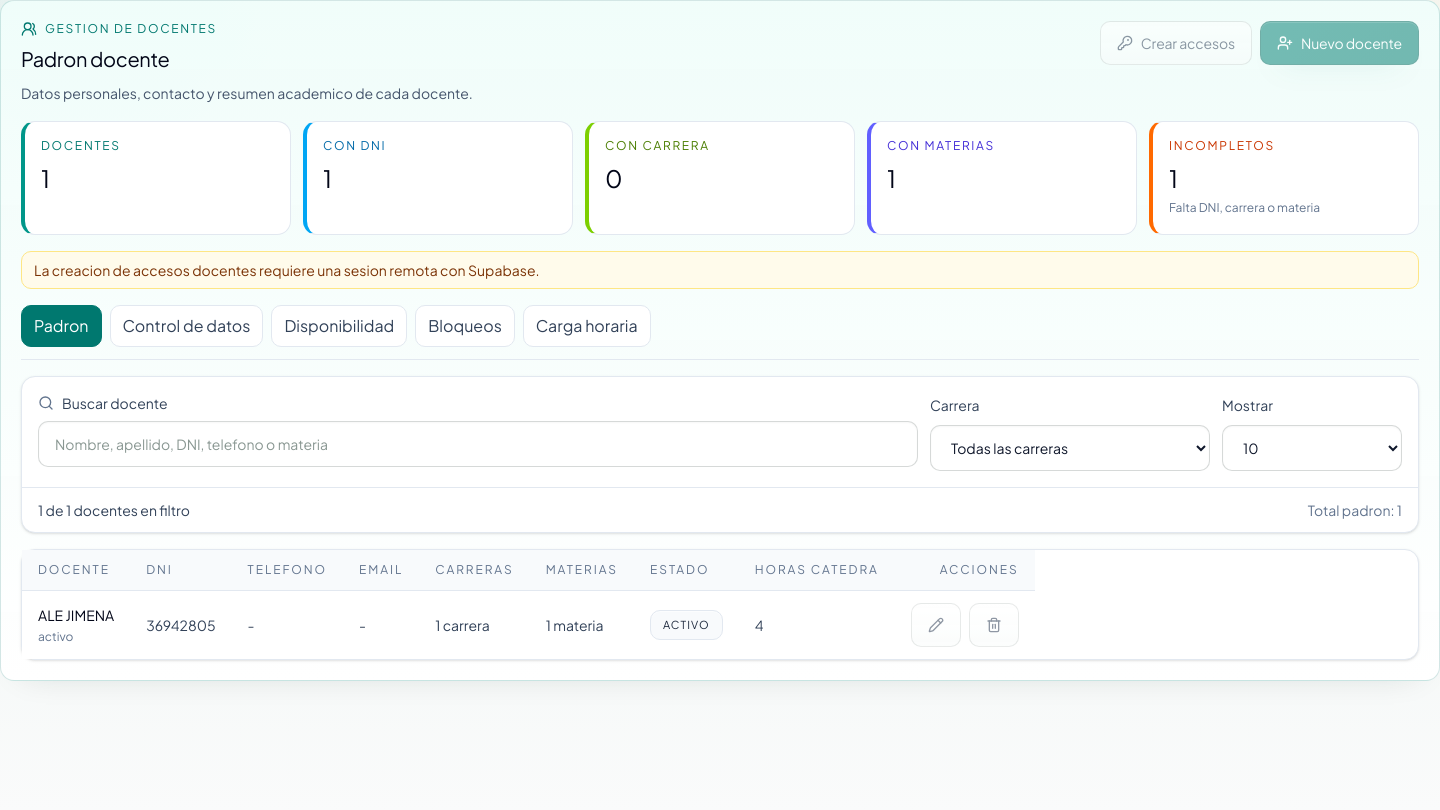
Test: TeacherRosterSection fechas bloqueadas › muestra materias, carreras, condicion y horas catedra en el modal docente
What coordinates should you click on to do the following:
click the text "ALE JIMENA"
I would click on:
 (76, 615)
Its box is x1=38 y1=605 x2=114 y2=625.
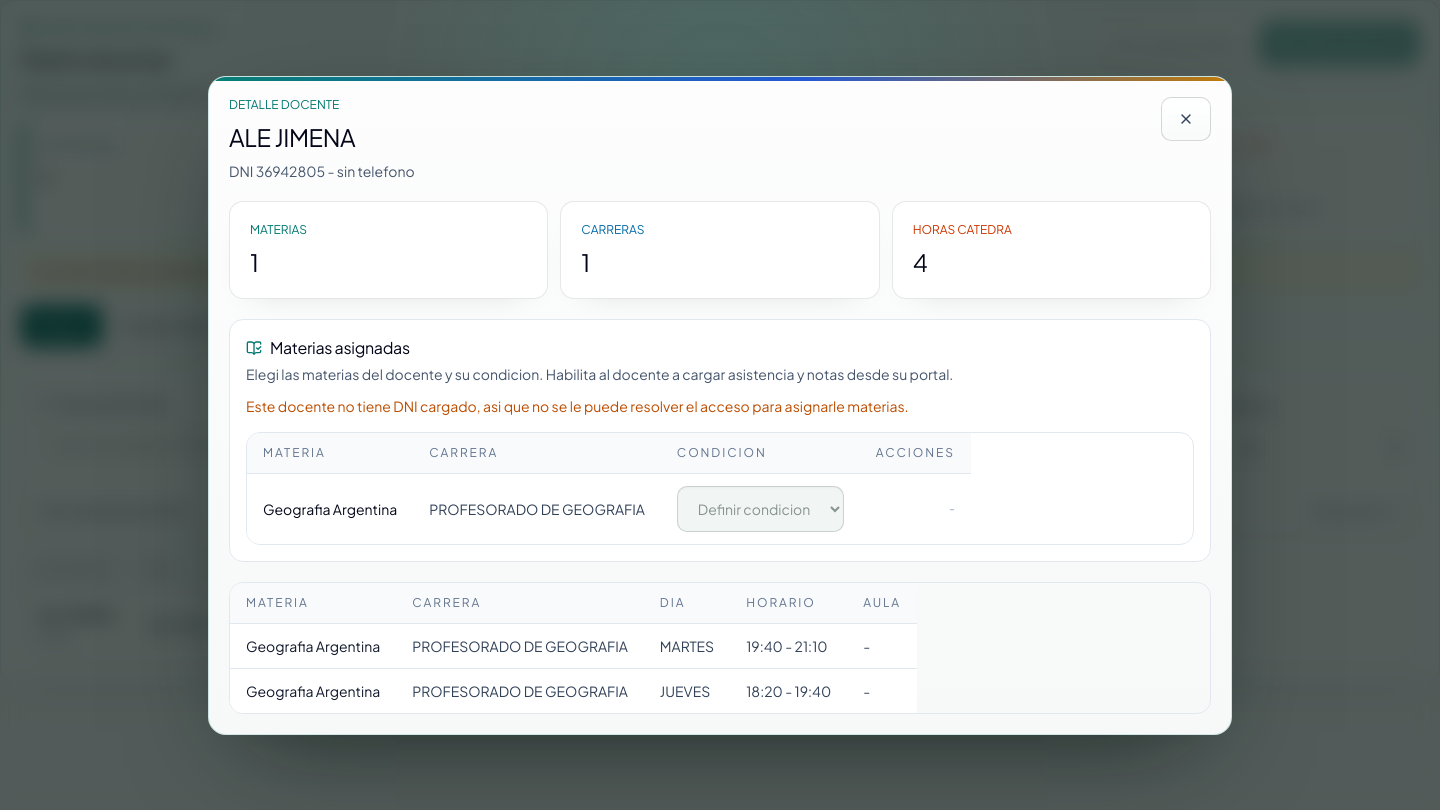
Result: the 1st text "1" is shown at x1=250 y1=246 x2=259 y2=276
Result: the 2nd text "1" is shown at x1=581 y1=246 x2=590 y2=276
Result: the text "4" is shown at x1=913 y1=246 x2=928 y2=276
